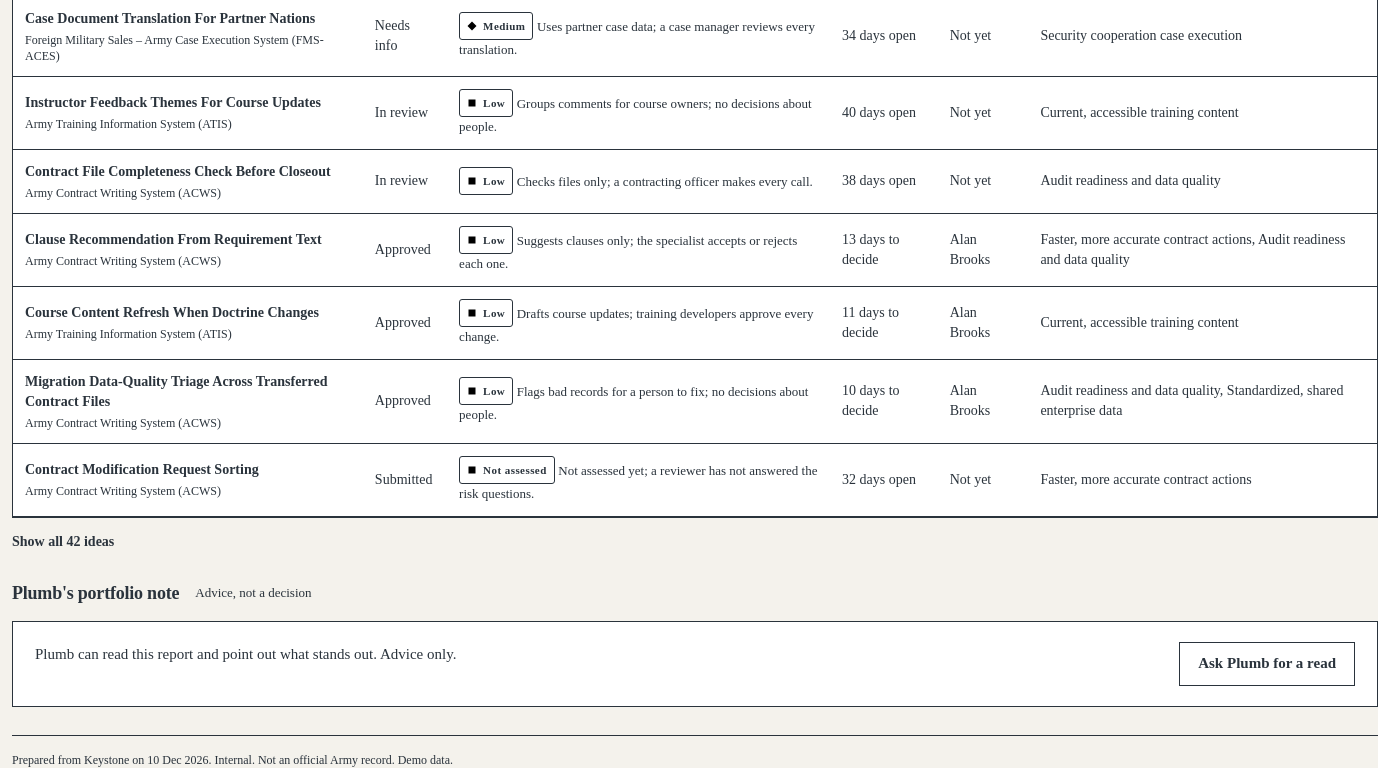
Test: Plumb's read on /report is written on a button press › Ask again replaces the note
This screenshot has width=1378, height=768.
(page scrolled)
Click the button "Ask Plumb for a read". click: {"x": 1267, "y": 664}
box: [1179,642,1355,686]
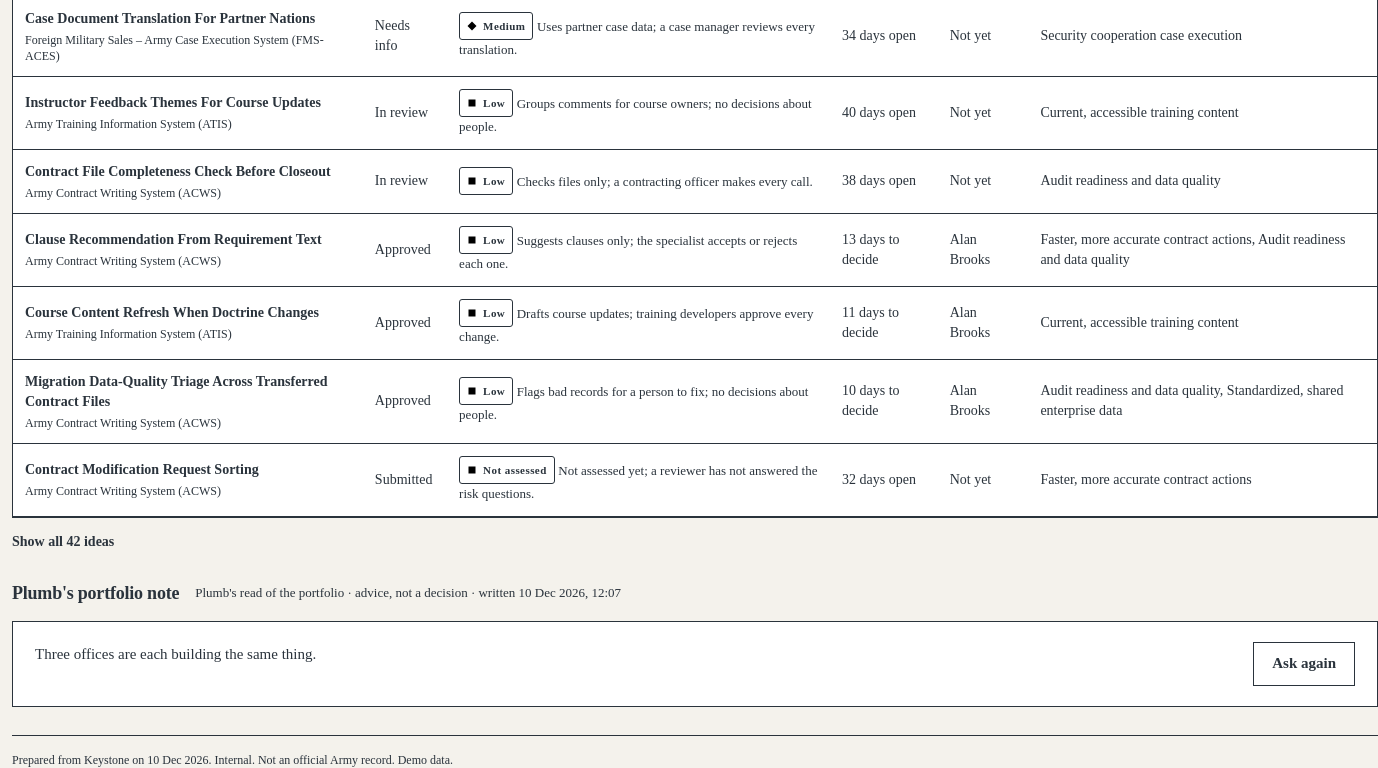
Click the button "Ask again". click: {"x": 1304, "y": 664}
box: [1253,642,1355,686]
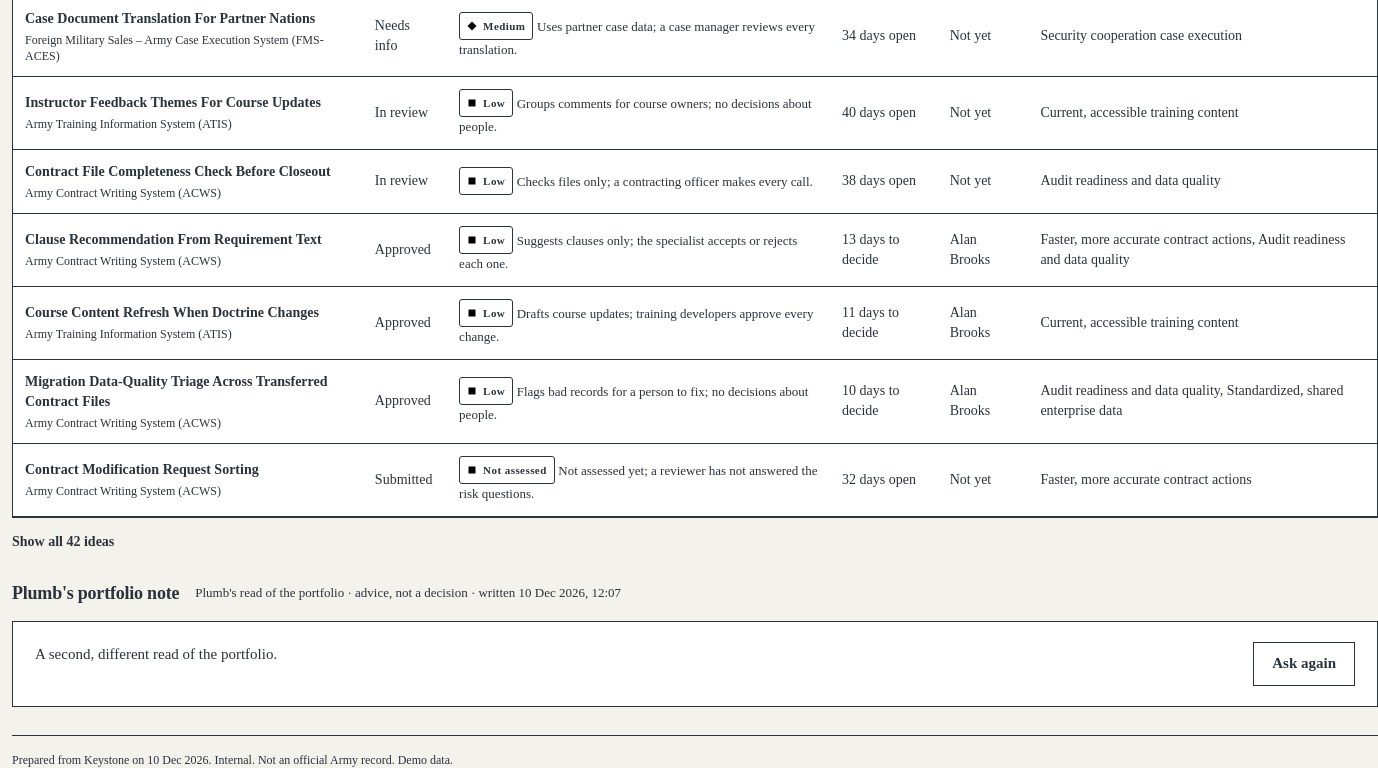
expect the element named "Plumb" shows "A second, different read of the portfolio.": met, box [35,646,277,662]
expect the text named "Plumb" no longer shows "Three offices are each building the same thing.": met
